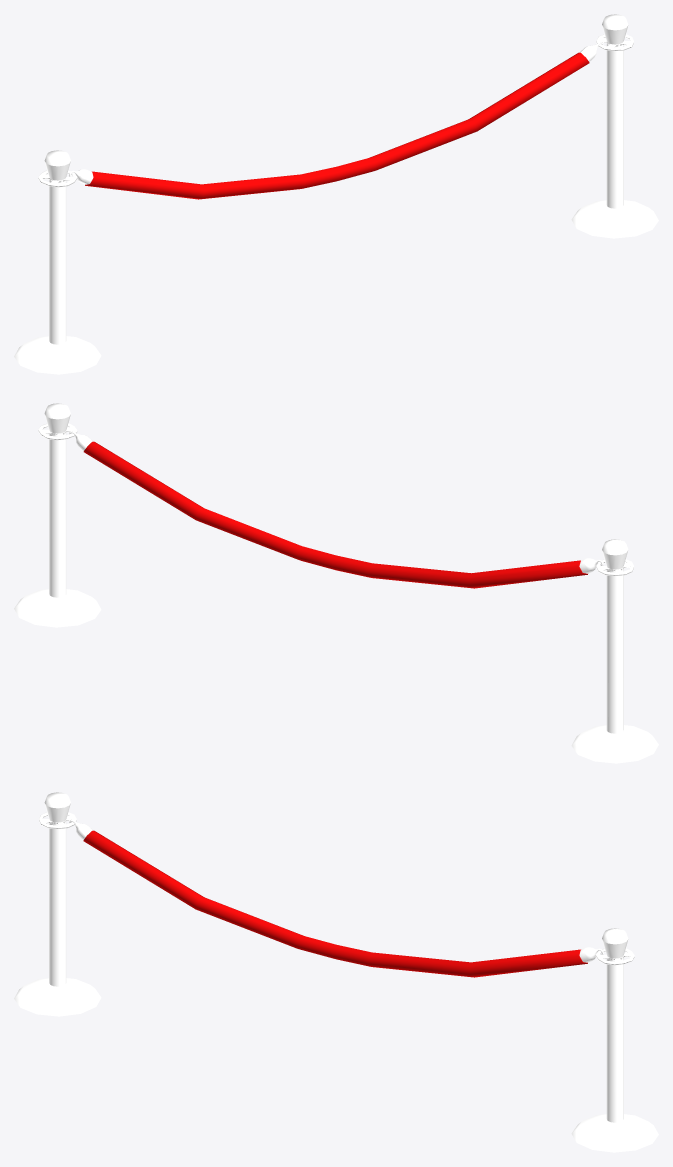
File: add04be1-1187-495a-bf94-c14c32fd92a6.glb
3 renders of one model, top to bottom at view 1: azimuth 30°, elevation 25°; view 2: azimuth 150°, elevation 25°; view 3: azimuth 330°, elevation 25°, orthographic.
Visible parts, largest first — view 1: VipRopeSilver; view 2: VipRopeSilver; view 3: VipRopeSilver.
Part boxes in pixels (x1,y1,x2,y2): VipRopeSilver: (14, 14, 658, 374); VipRopeSilver: (14, 403, 658, 763); VipRopeSilver: (14, 792, 658, 1152).
Size of what is drawn, in the model's own units: 3.82 by 1.17 by 0.4581.
Materials: 2 (2 with a texture image).
